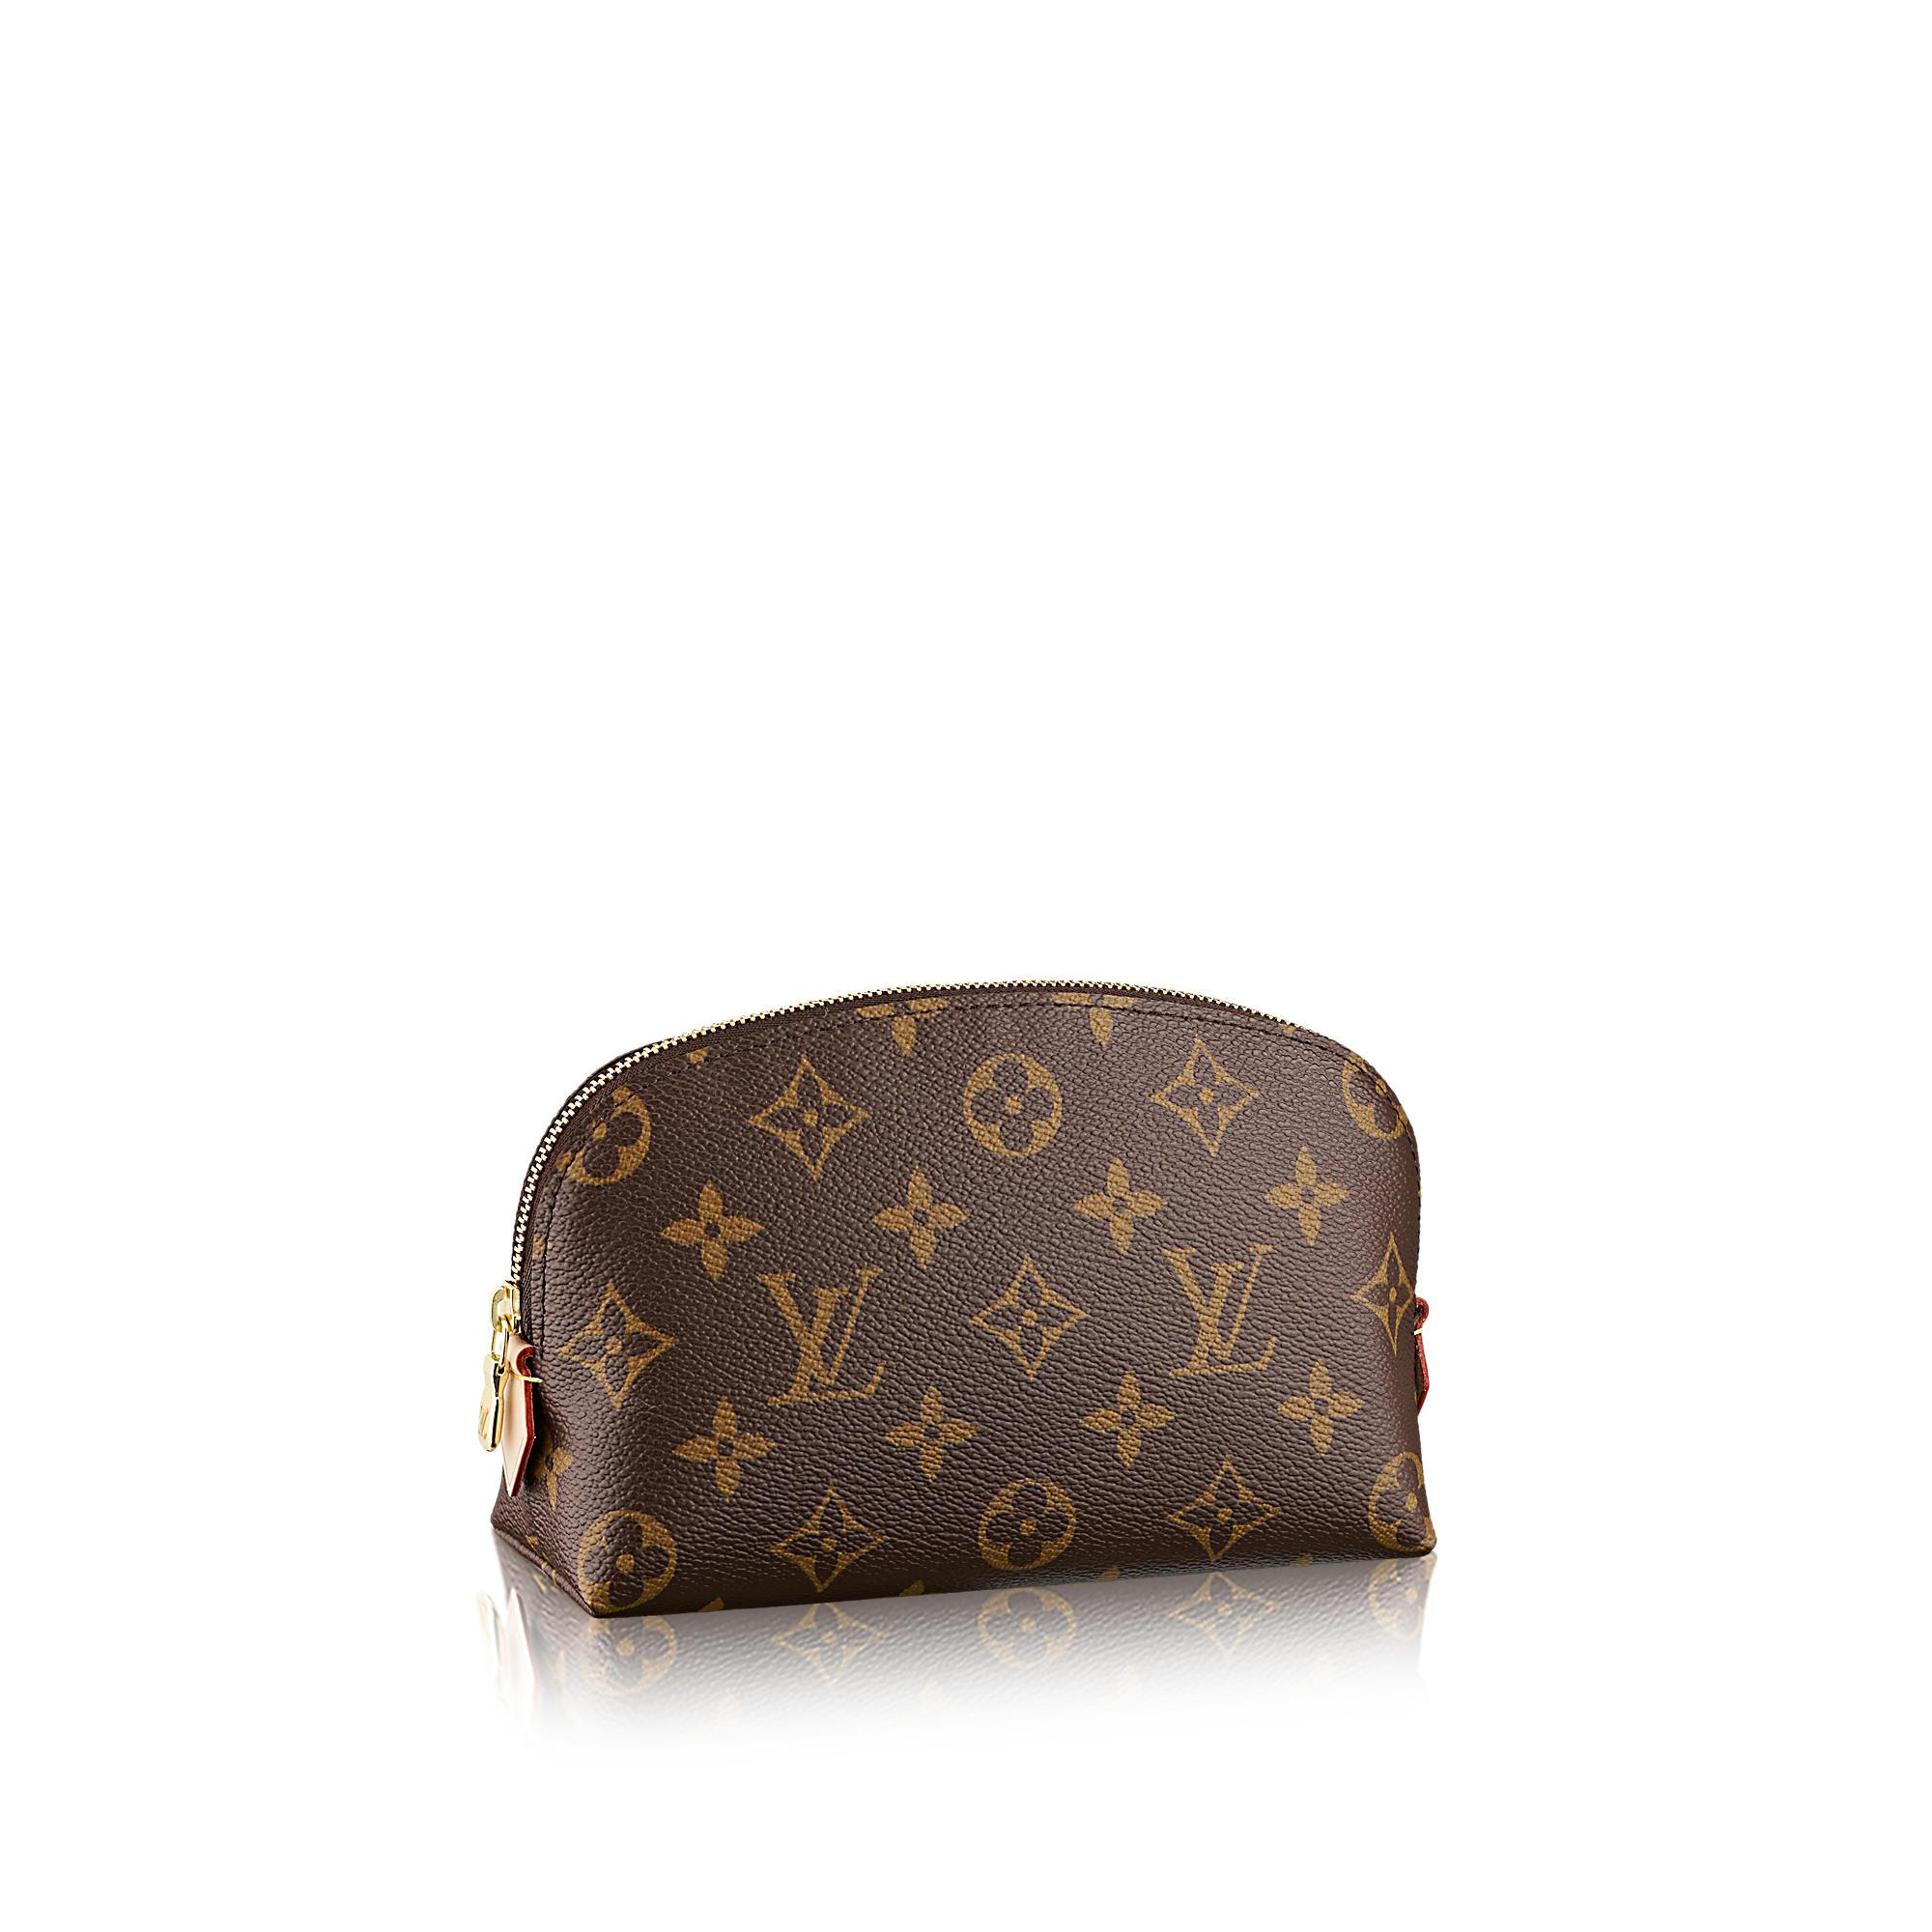LOUIS-VUITTON: (759, 1256, 886, 1410), (1157, 1240, 1283, 1378)
